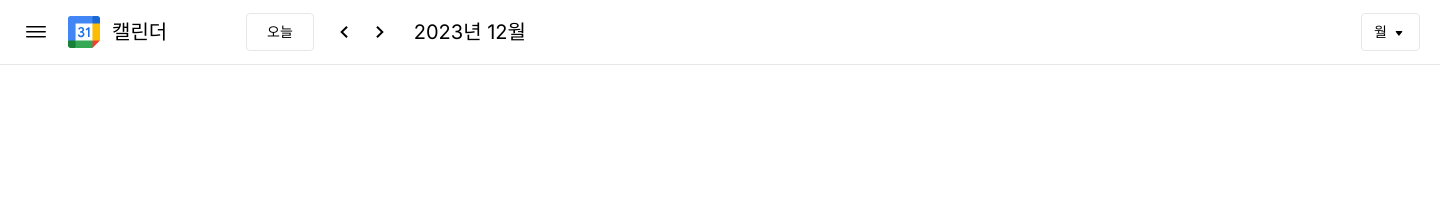
Scenario: 왼쪽 및 오른쪽 버튼 기능 › 일 단위로 선택 후 왼쪽 버튼 클릭 시 전 날로 변경된다.
The image size is (1440, 201).
Note: 달력 유닛을 일로 선택
What coordinates should you click on to do the following:
click the button named "calendar view unit button"
I would click on:
 (1391, 32)
Its box is [1361,13,1420,51].
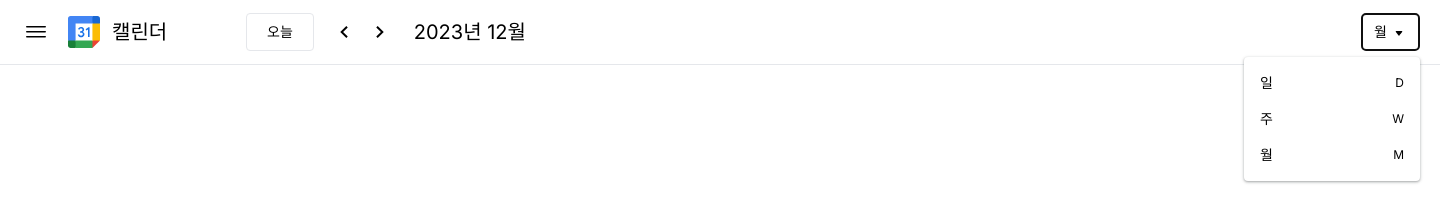
What coordinates should you click on to do the following:
click the button "일 D"
I would click on:
 (1332, 83)
Its box is [1244,65,1420,101].
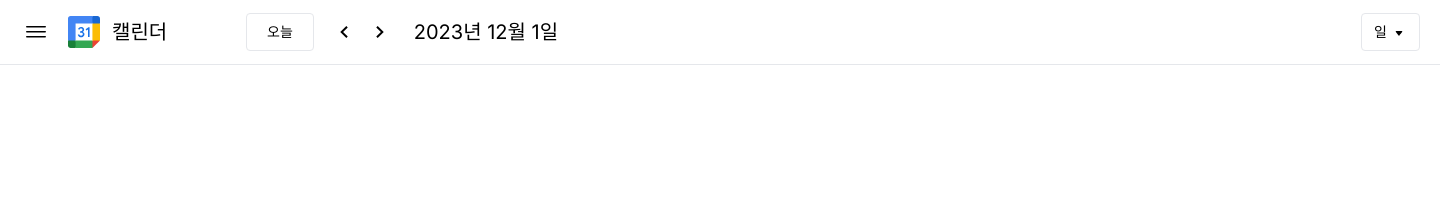
Note: 왼쪽 버튼 클릭
What coordinates should you click on to do the following:
click the button named "left button"
I would click on:
 (344, 32)
Its box is [326,14,362,50].
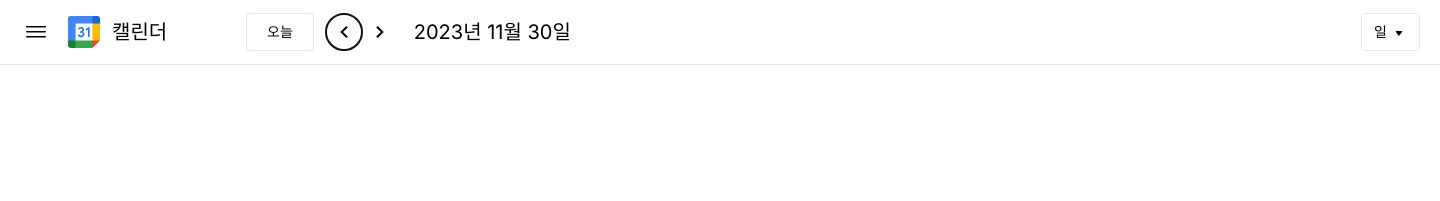
Now the text named "selected date" reads "2023년 11월 30일", box [414,20,571,44]
